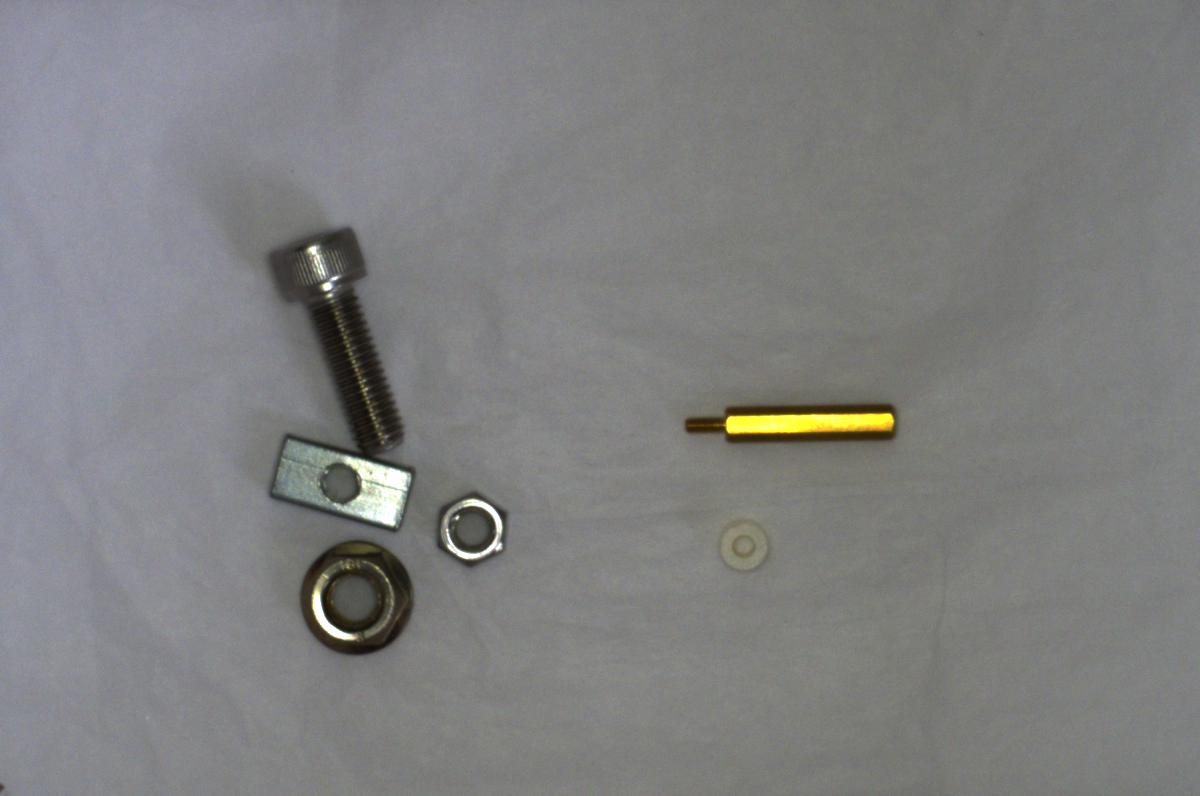Flange nut: (295, 530, 417, 656)
Hexagon nut: (414, 482, 514, 569)
Hexagon pillar: (675, 396, 906, 461)
Hexagon screw: (264, 218, 413, 453)
Plastic cushion pillar: (708, 510, 770, 582)
Rectangular nut: (266, 434, 412, 529)
